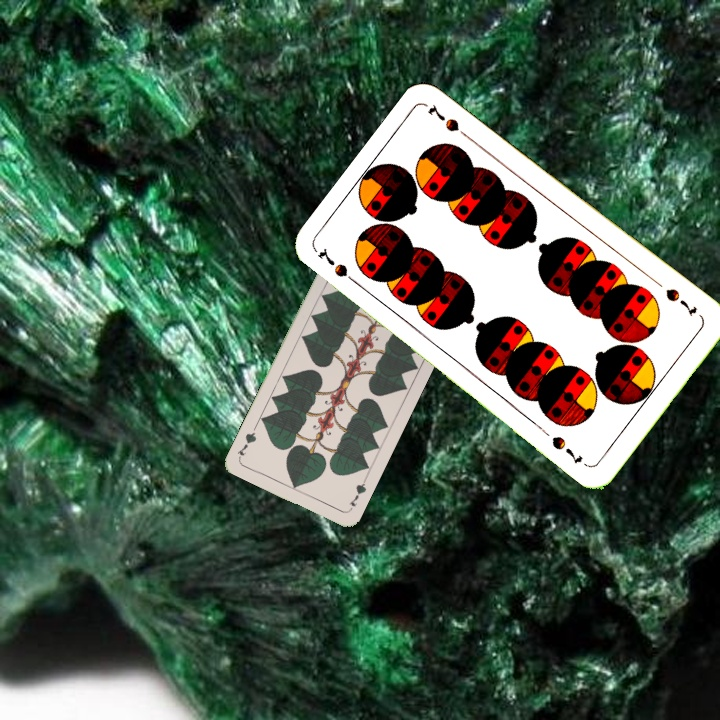G7: (345, 476, 369, 513)
S7: (314, 245, 363, 289), (661, 284, 700, 318)
